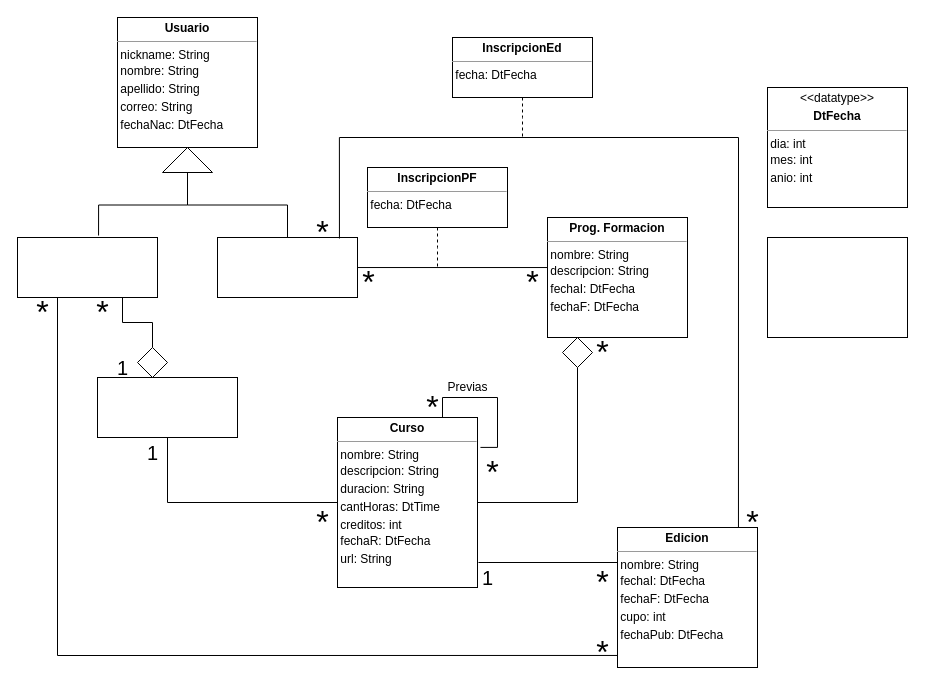
Image size: 925x689. Some labels were removed from this diagram. The centre of each missing label's shape, as x and y in pixels:
<<datatype>> DtTime horas: int min: int: the point at 837,287
Docente: the point at 87,267
Estudiante: the point at 287,267
Instituto nombre: String: the point at 167,407
